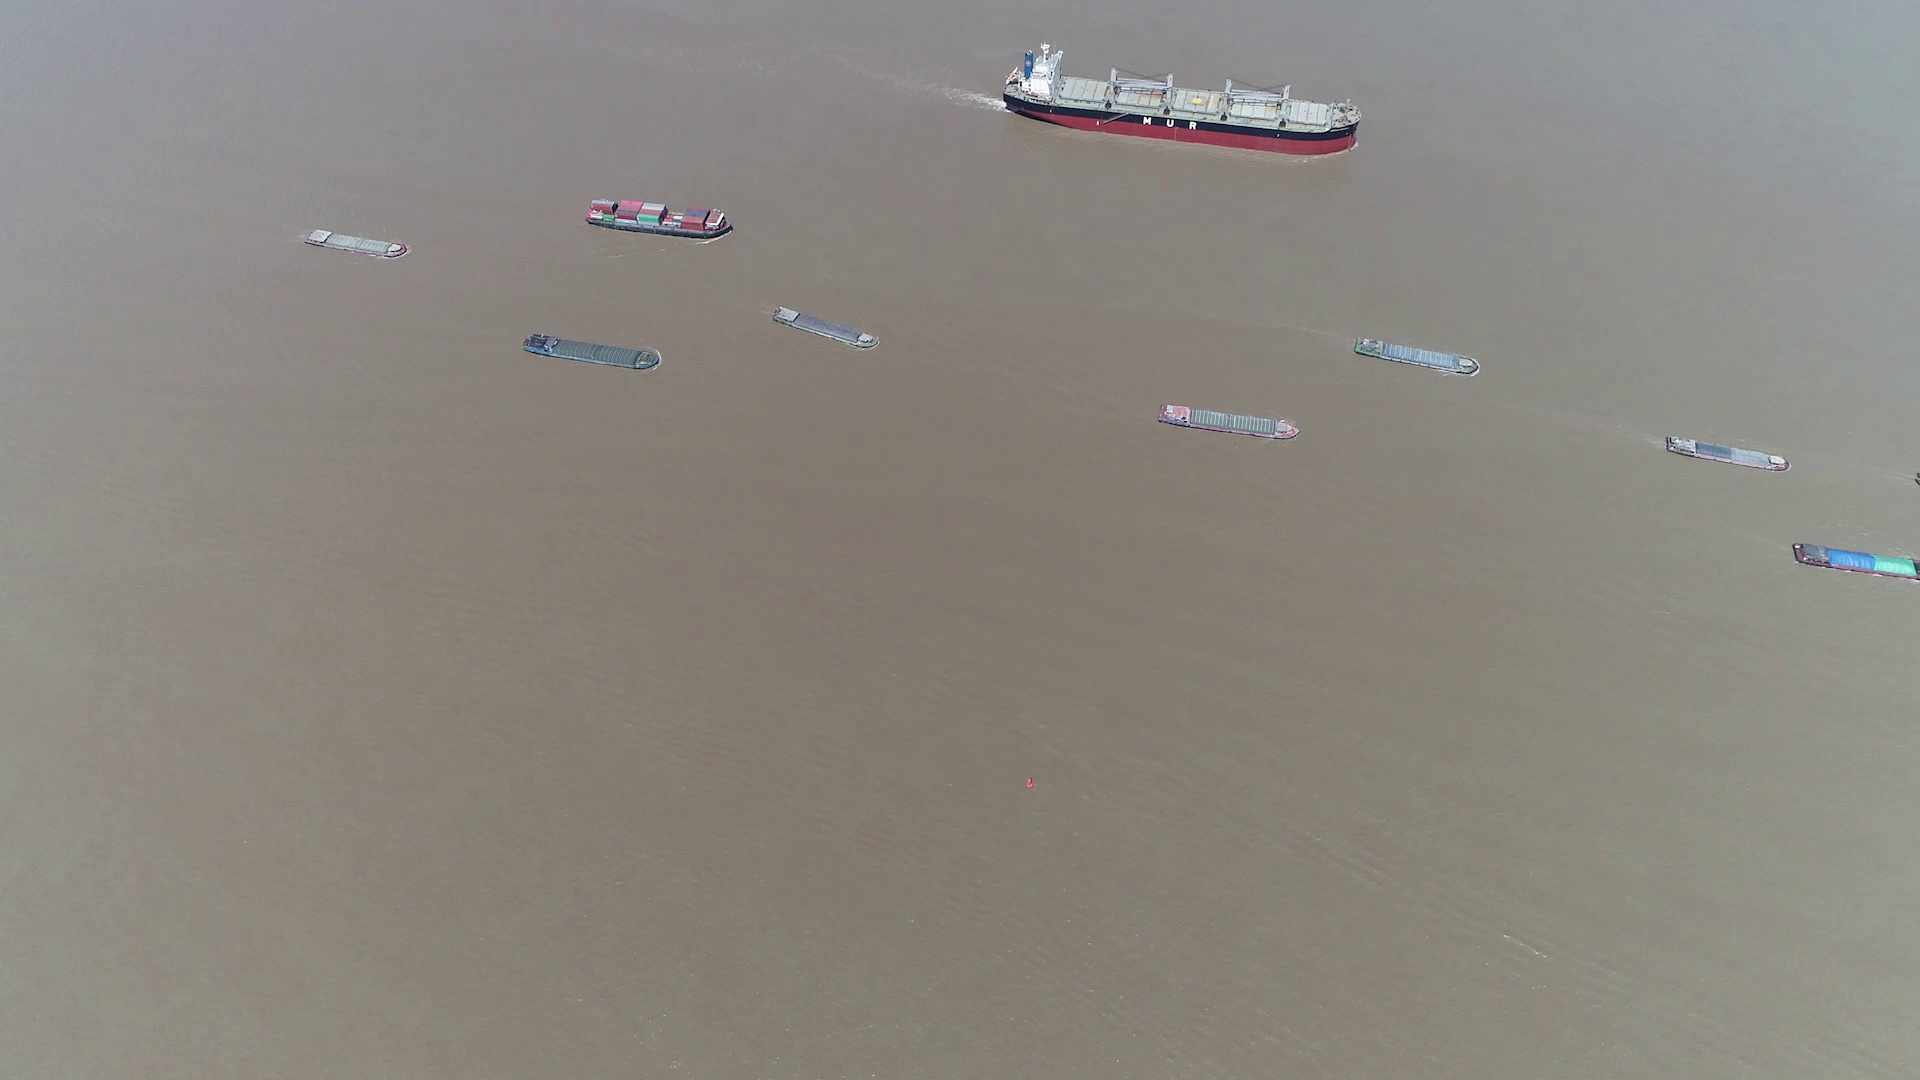ship: (1002, 49, 1362, 150), (585, 198, 733, 239), (522, 334, 662, 375), (1156, 402, 1298, 440), (1354, 336, 1480, 377), (1789, 541, 1917, 579), (1664, 433, 1789, 471), (773, 309, 880, 349), (303, 227, 406, 258)
